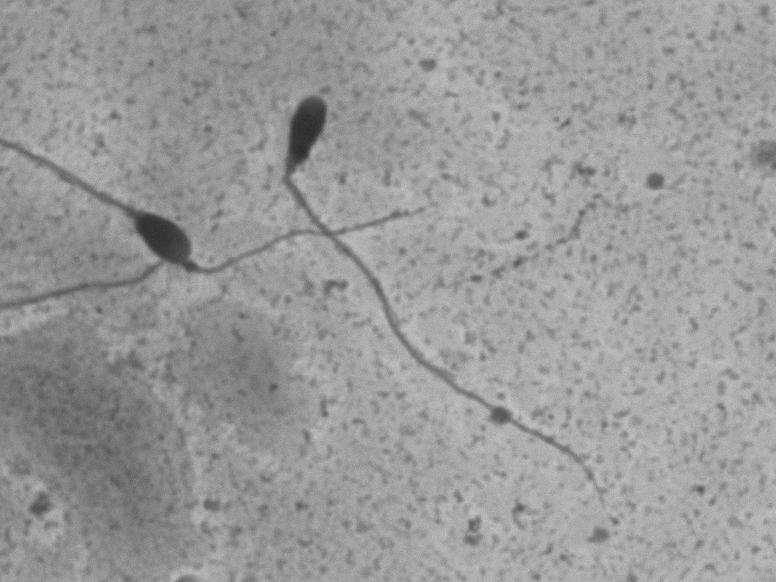Abnormal: (269, 68, 637, 522), (35, 113, 197, 286)
